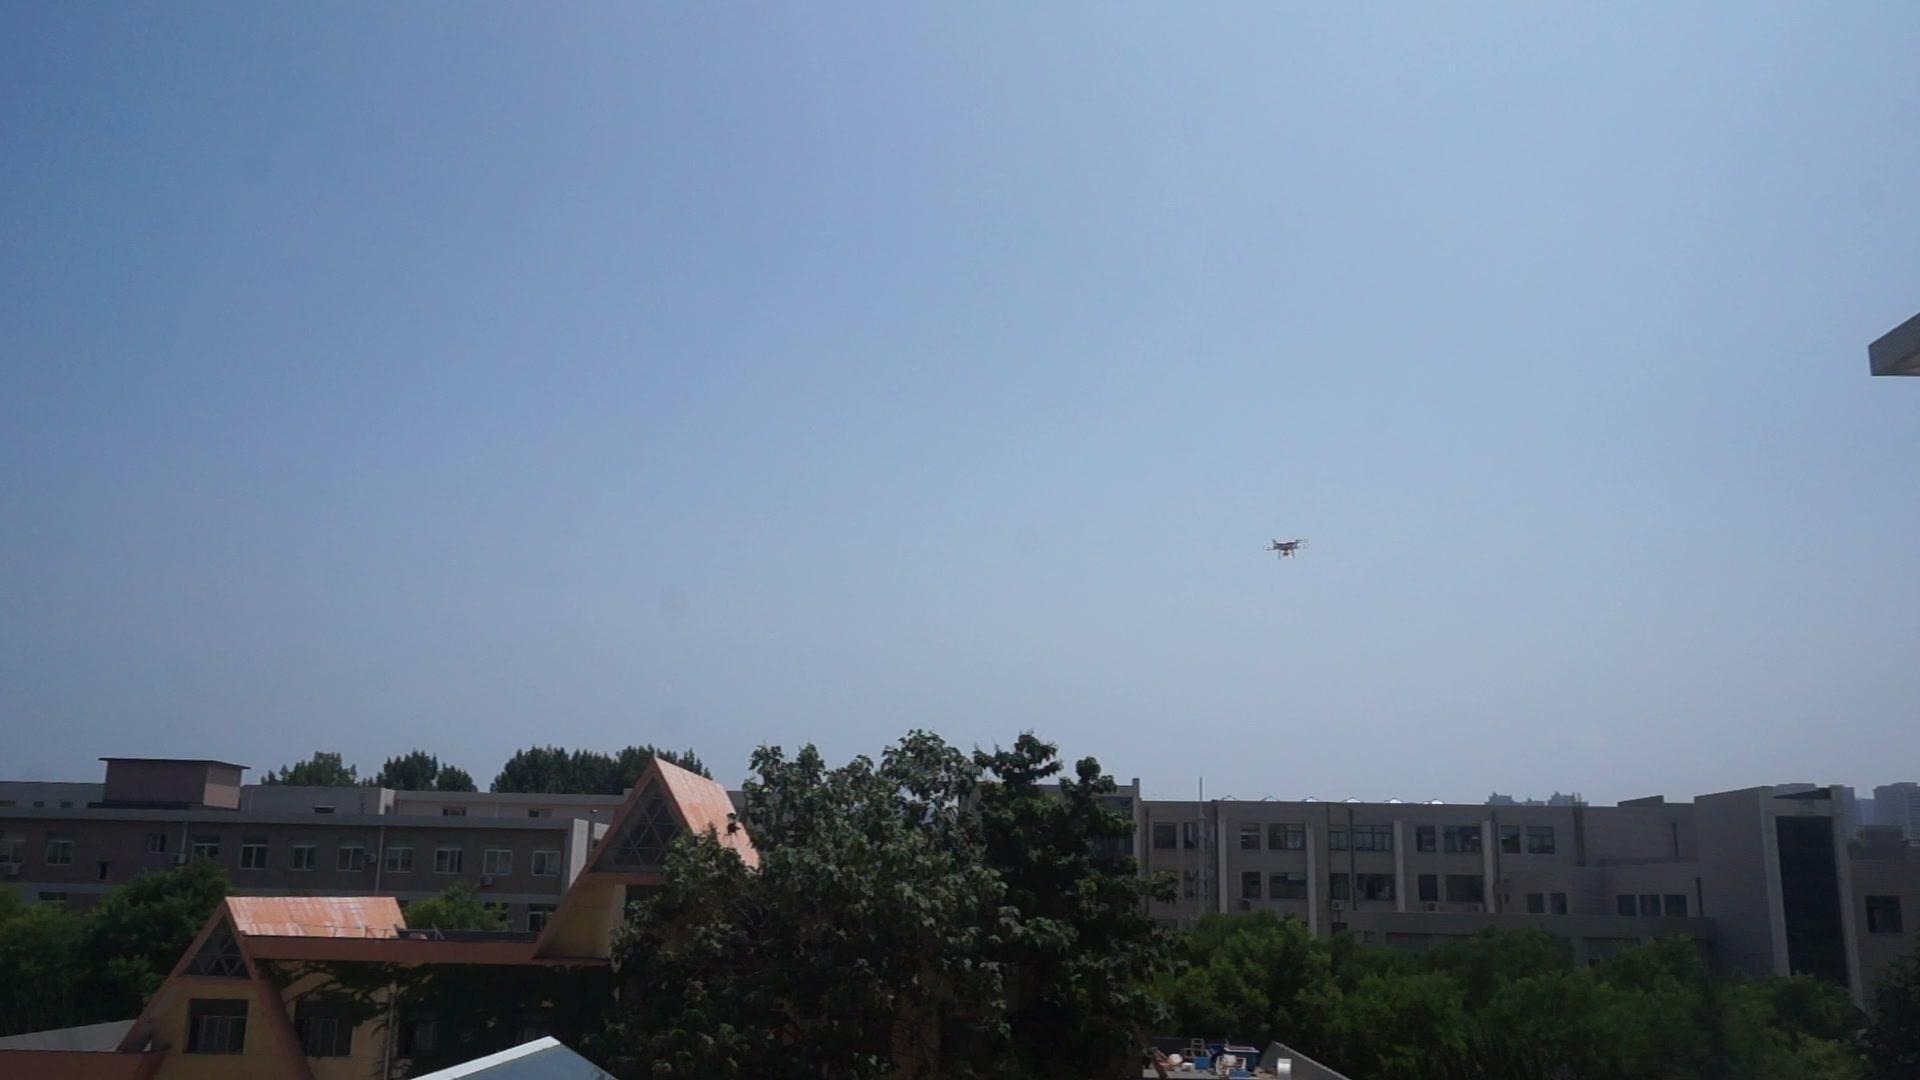UAV: (1265, 538, 1311, 560)
